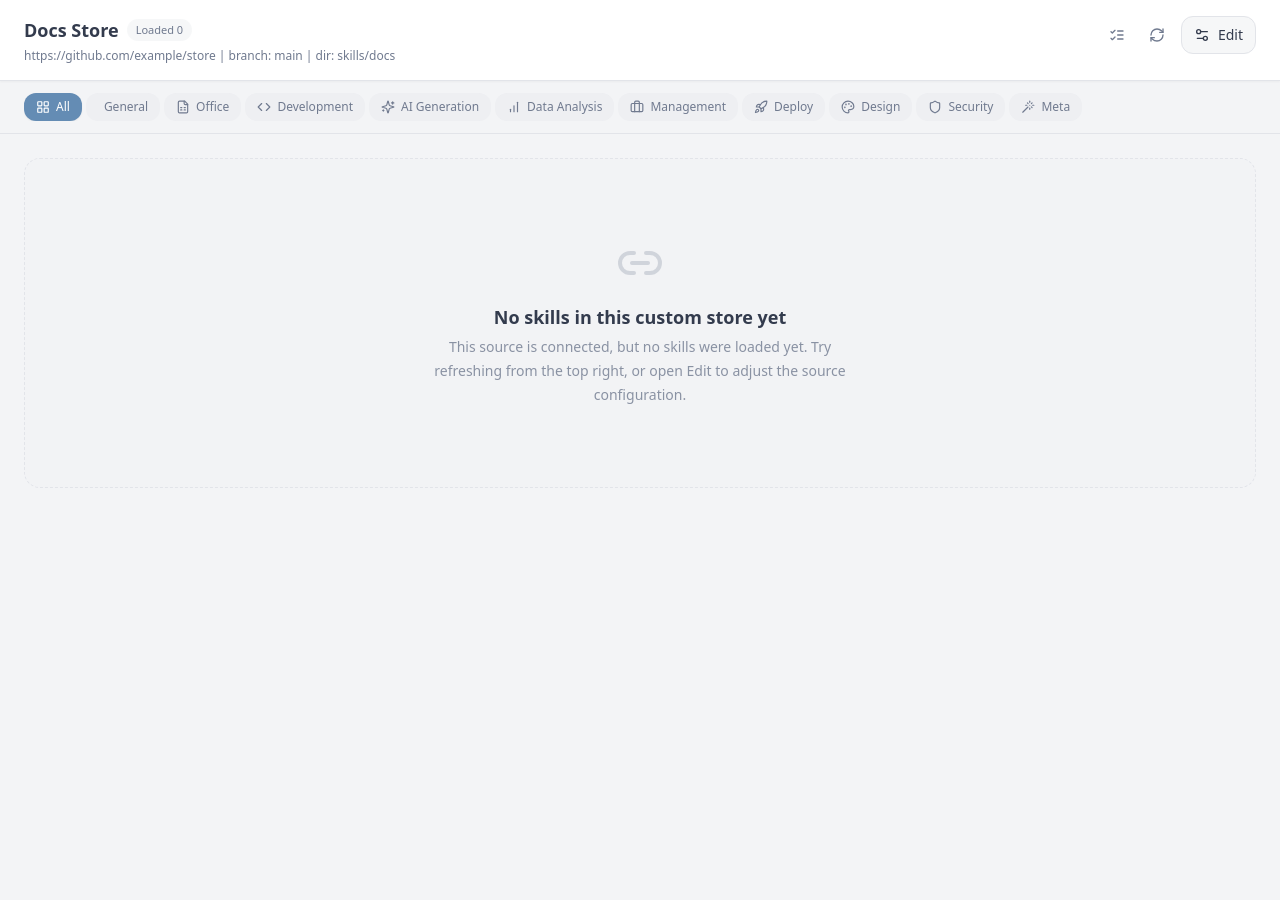
Test: SkillStore custom sources › edits a custom store source from the header action modal
Click the button "Edit": point(1218, 35) [1181,16,1256,54]
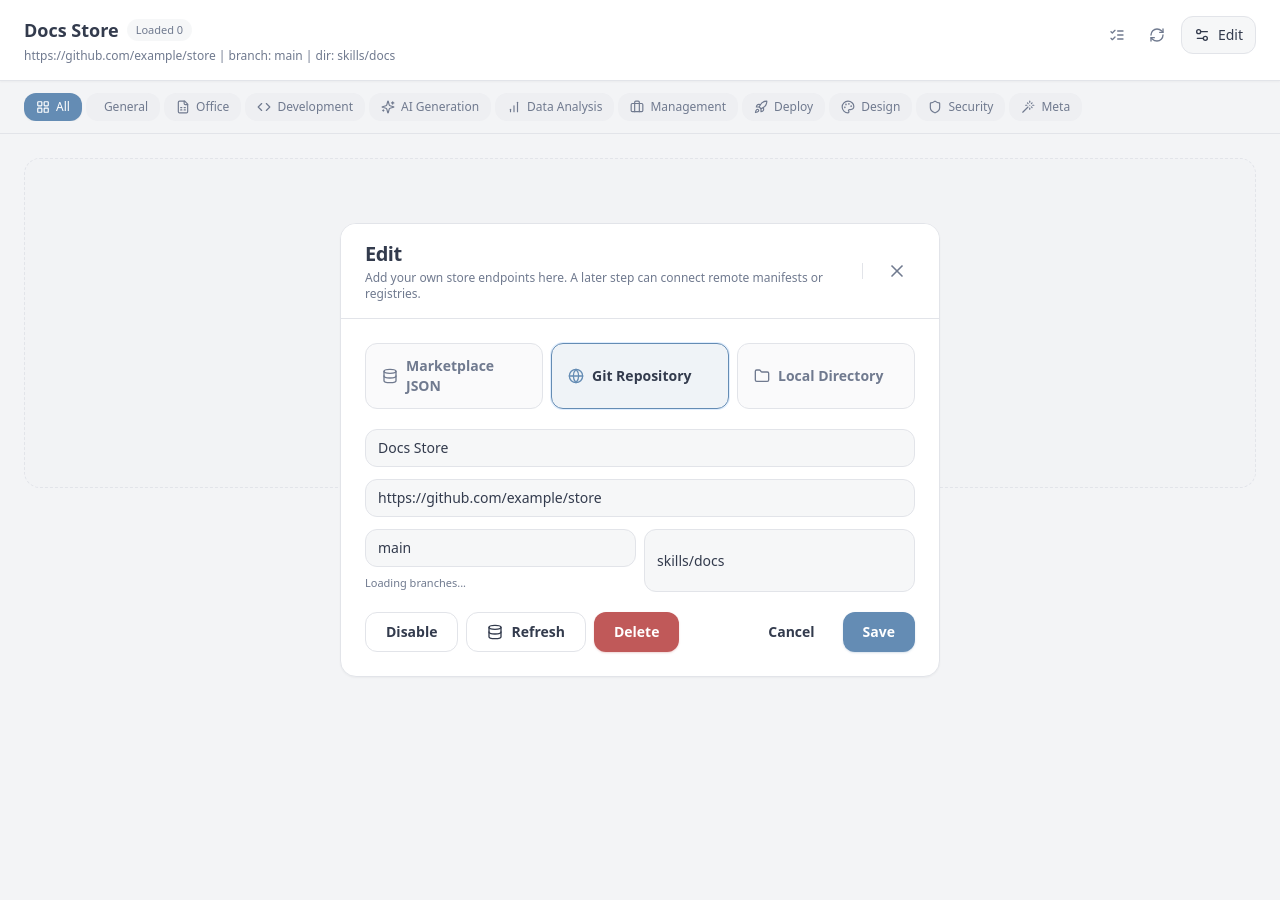
Replace the text in the field showing "Docs Store" with "Docs Store Renamed": point(640, 448) [365,429,915,467]
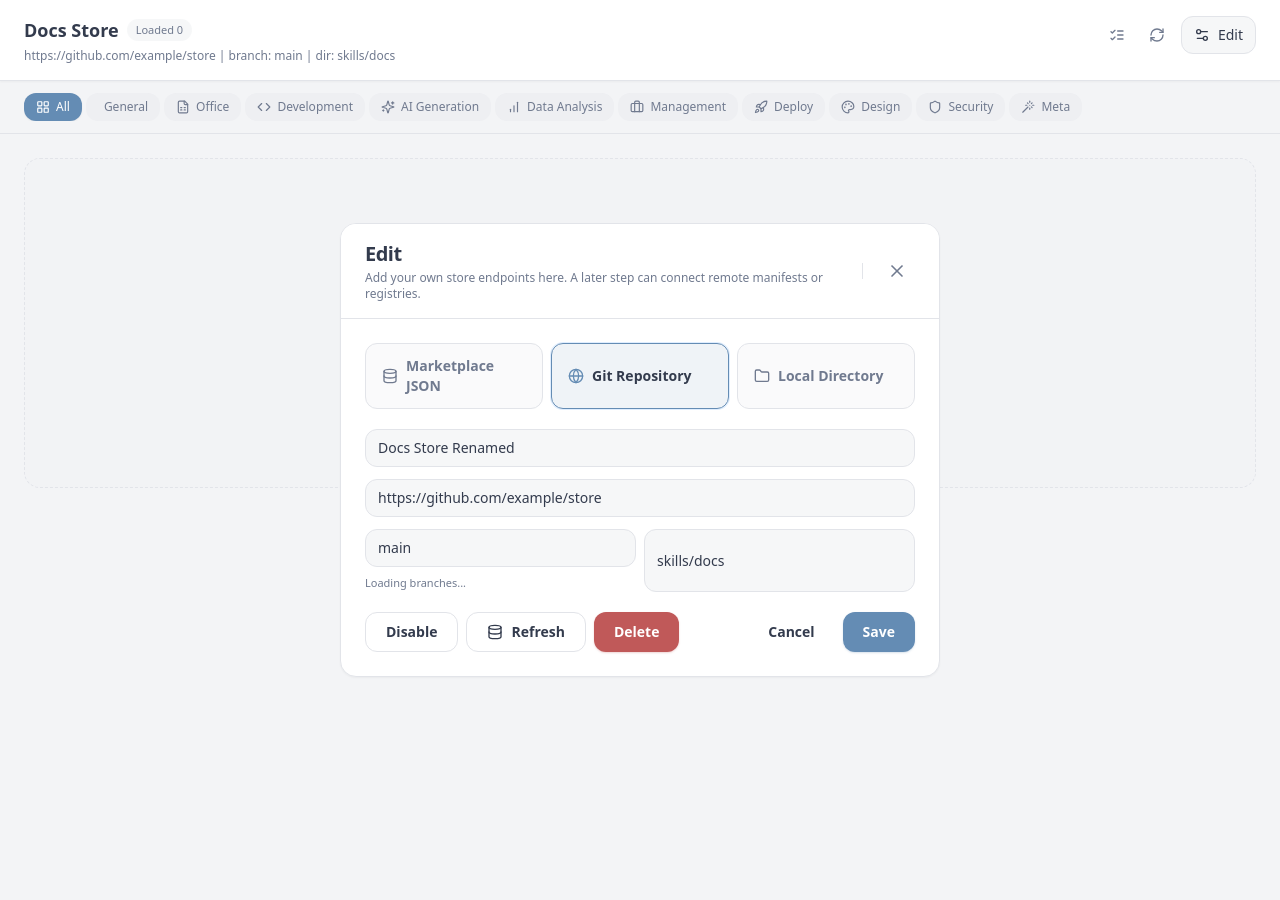
Replace the text in the field showing "main" with "release": point(500, 548) [365,529,636,567]
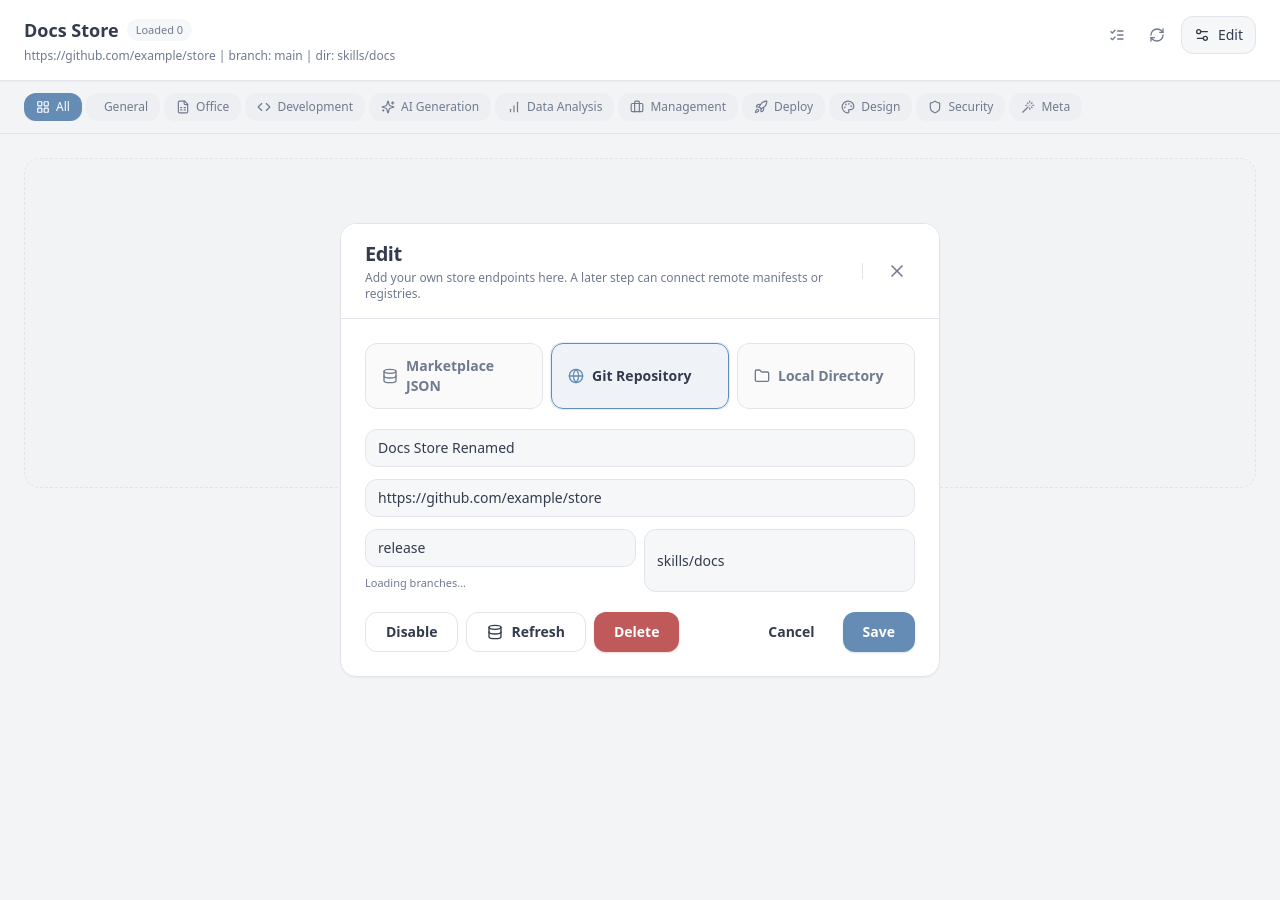
Click the button "Save": point(879, 632) [843,612,915,652]
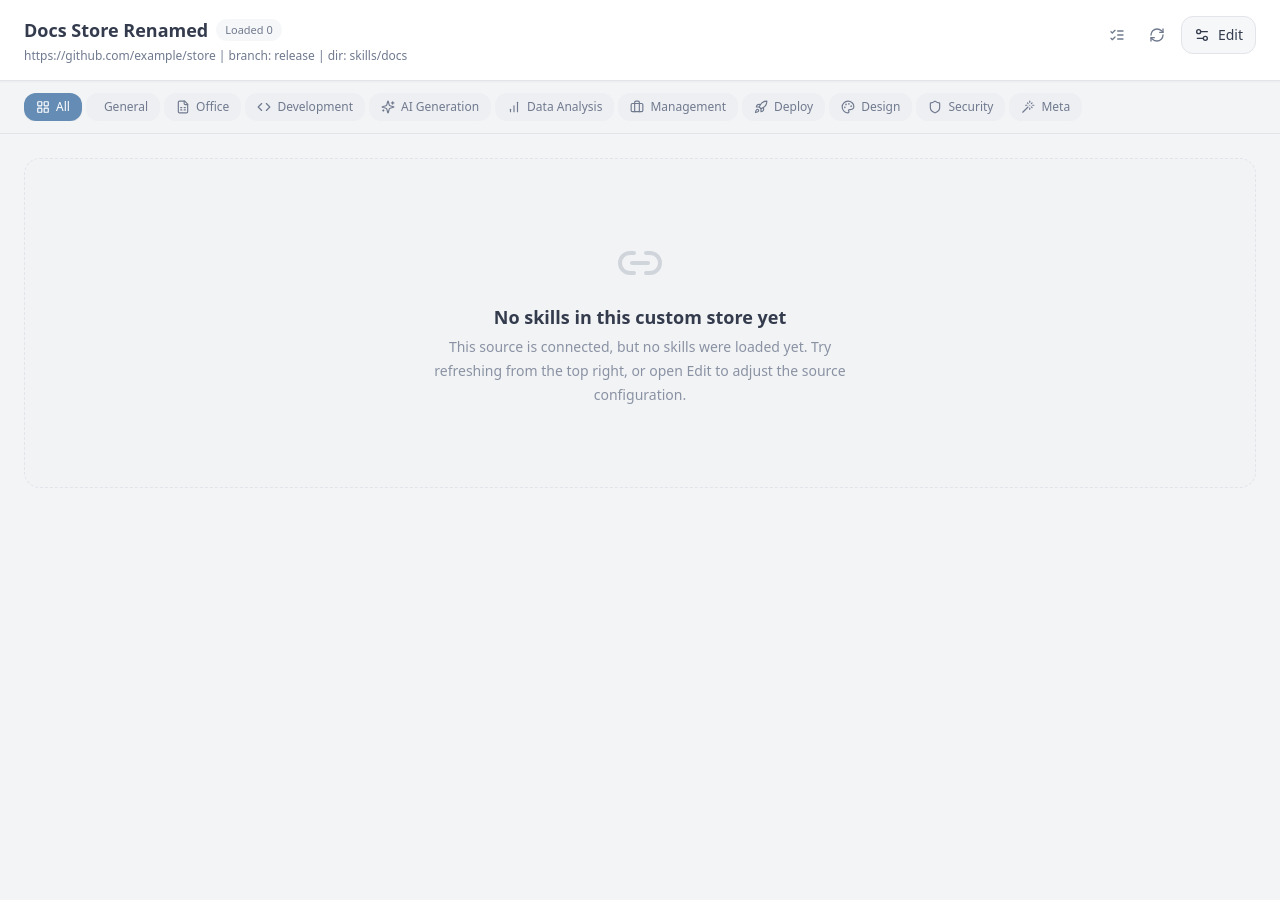
Expected: the heading "Docs Store Renamed" is shown, [24,16,208,44]
